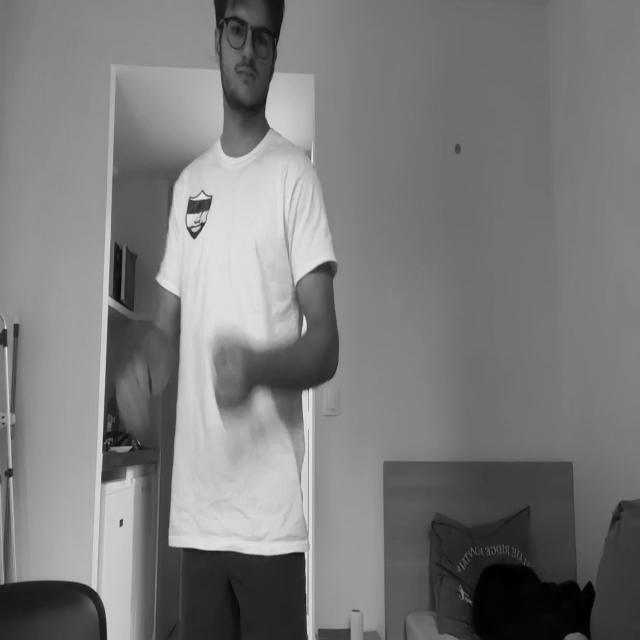elbow: (305, 321, 341, 380), (150, 318, 179, 372)
hand: (212, 335, 252, 419), (115, 365, 152, 441)
shoulder: (282, 158, 326, 238), (168, 162, 192, 230)
